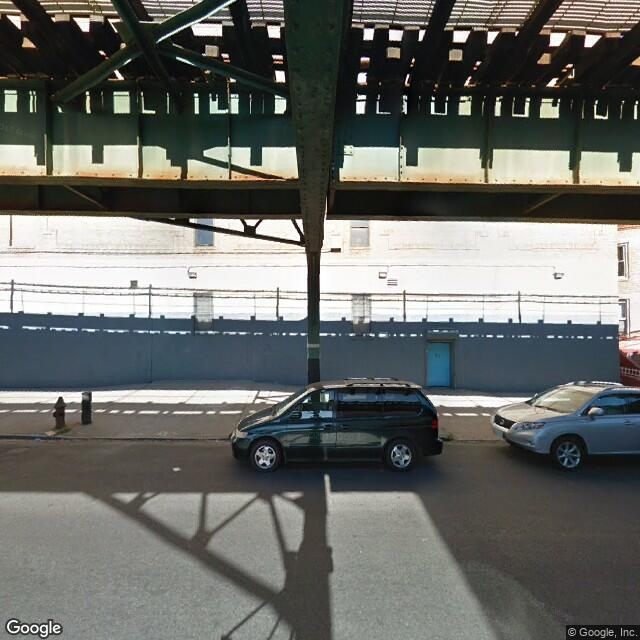litter: (47, 431, 56, 435), (173, 469, 179, 473)
